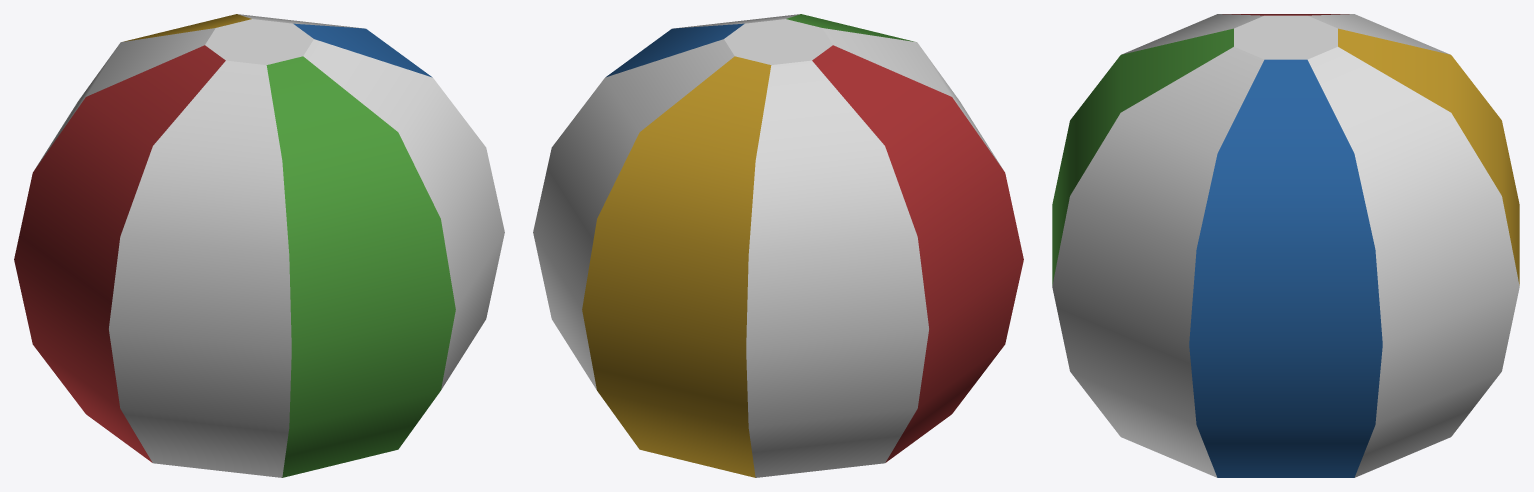
The model's file is Ballon_De_Plage.fbx.
3 renders of one model, left to right at view 1: azimuth 30°, elevation 25°; view 2: azimuth 150°, elevation 25°; view 3: azimuth 270°, elevation 25°, orthographic. The views are drawn at different scales.
Parts seen in each view (by area): view 1: Ballon_De_Plage; view 2: Ballon_De_Plage; view 3: Ballon_De_Plage.
Part boxes in pixels (left/top/right/bottom): Ballon_De_Plage: left=14, top=14, right=504, bottom=477; Ballon_De_Plage: left=533, top=14, right=1023, bottom=477; Ballon_De_Plage: left=1052, top=14, right=1519, bottom=477.
Bounding box in the file's own units: 39.6 × 38.95 × 39.6.
1 material, 1 textured.
